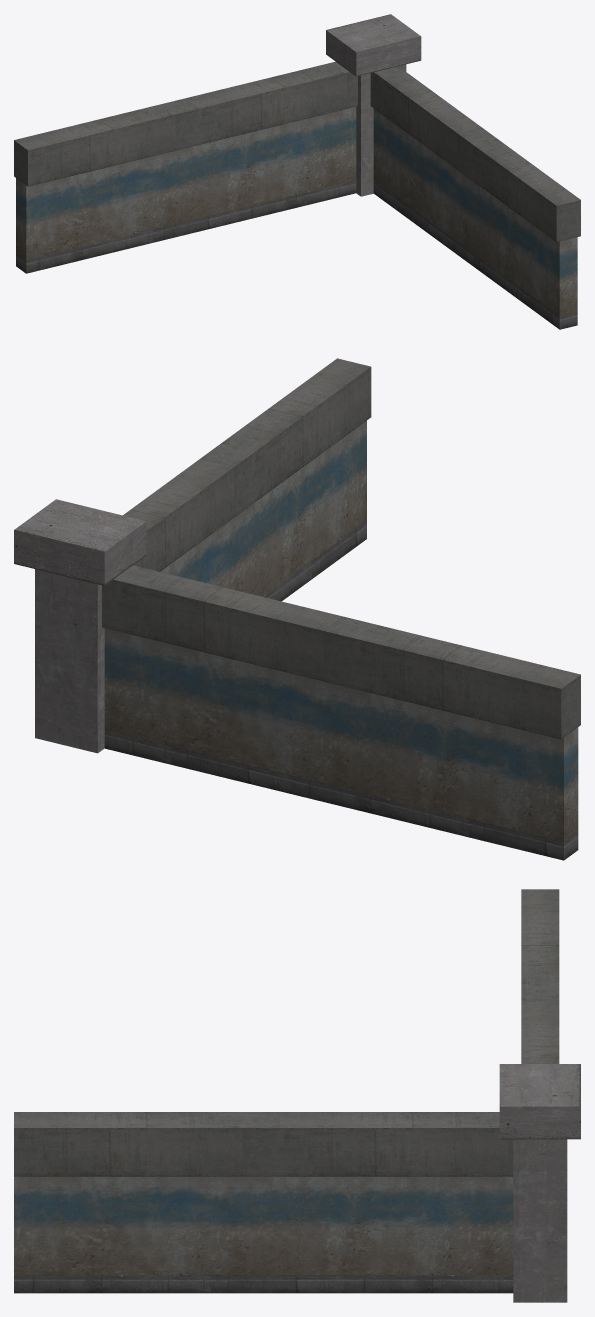
Rendered from Cover_WallB3.glb.
The picture shows the model from 3 angles, top to bottom: view 1: azimuth 30°, elevation 25°; view 2: azimuth 150°, elevation 25°; view 3: azimuth 270°, elevation 25°; orthographic projection. The views are drawn at different scales.
Visible parts, largest first — view 1: xiutz_wall_b3; view 2: xiutz_wall_b3; view 3: xiutz_wall_b3.
Boxes of the visible parts, bbox=[...] form: xiutz_wall_b3: bbox=[14, 14, 580, 329]; xiutz_wall_b3: bbox=[14, 358, 580, 860]; xiutz_wall_b3: bbox=[14, 889, 580, 1302].
Size of the model in its own units: 5.17 by 1.93 by 4.91.
1 material, 1 textured.
